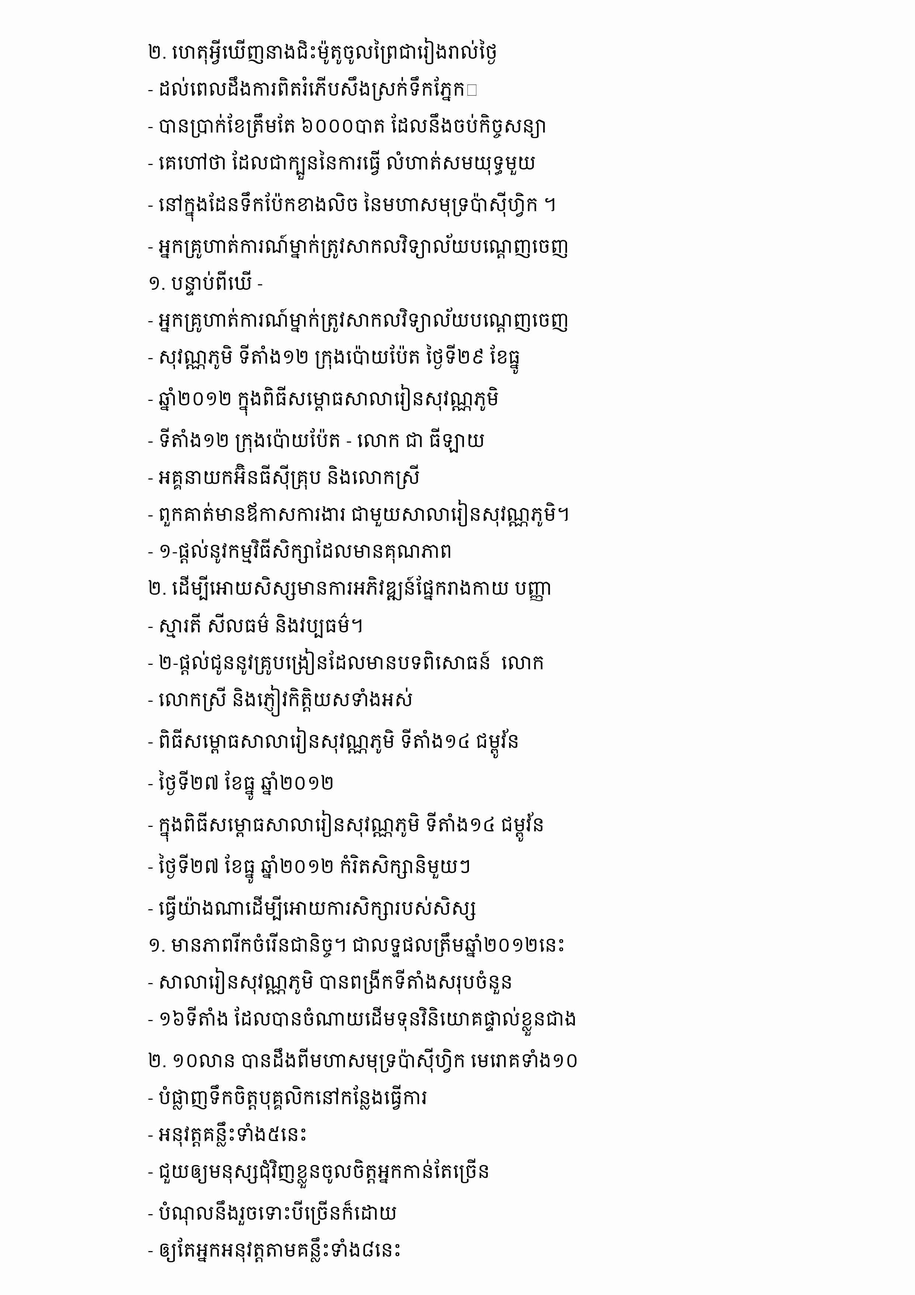text: (148, 1006, 582, 1036), (148, 810, 549, 842), (148, 192, 561, 222), (148, 727, 525, 759), (148, 499, 574, 527), (148, 150, 541, 180), (148, 384, 504, 416), (148, 344, 526, 374), (148, 233, 574, 259), (148, 307, 574, 333), (148, 932, 570, 958), (148, 1048, 583, 1073), (148, 648, 549, 675), (148, 1158, 495, 1189), (148, 575, 557, 601), (148, 967, 518, 995), (148, 853, 476, 884), (148, 113, 552, 138), (148, 37, 503, 65), (148, 427, 490, 453), (148, 76, 483, 102), (148, 895, 481, 921), (148, 685, 418, 717), (148, 538, 458, 564), (148, 463, 425, 490), (148, 1085, 432, 1110), (148, 1237, 406, 1263), (148, 1200, 402, 1226), (148, 770, 339, 800), (148, 612, 368, 638), (148, 1121, 312, 1147), (148, 270, 268, 296)
